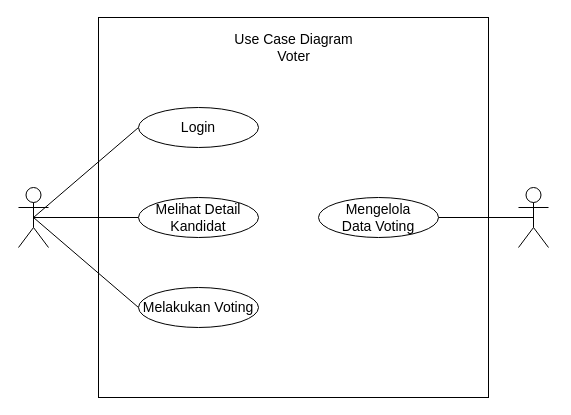
This 571x415 diagram has some shape labels left out. The shapes that lost their labels are listed below. From the top down, each one's box as (x1, y1, x2, y2) in pixels, then its label:
(18, 186, 48, 248): Voter
(518, 186, 548, 248): Admin
